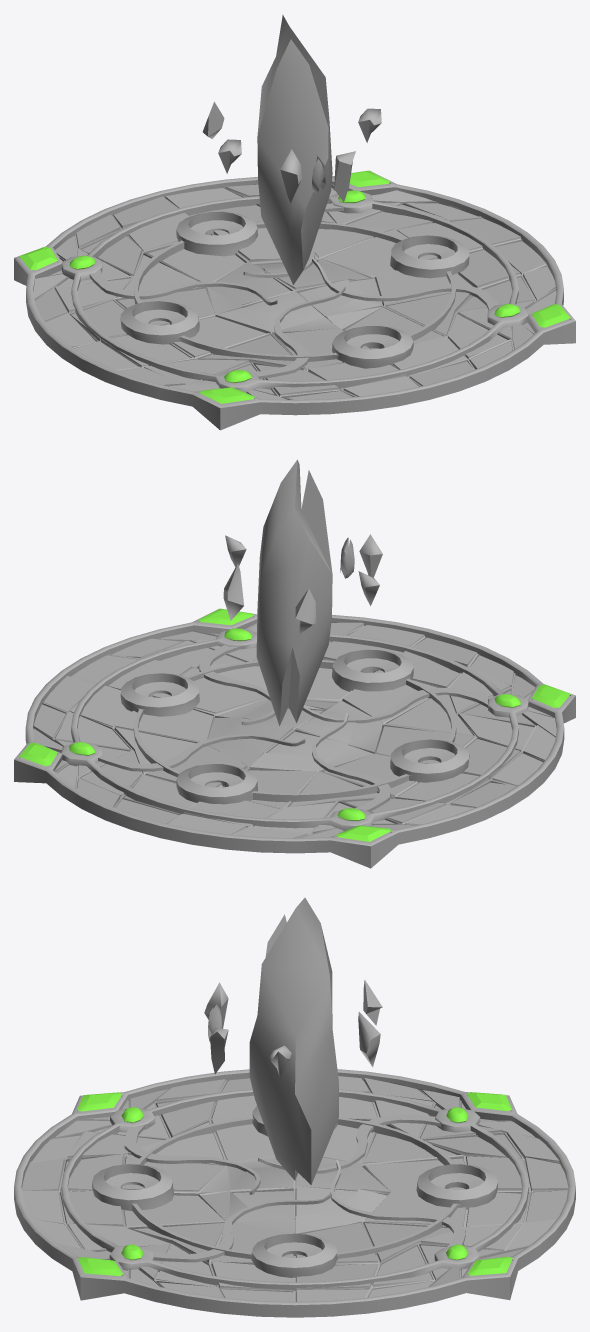
Rendered from Conduit_Uv_V1.FBX.
3 renders of one model, top to bottom at view 1: azimuth 30°, elevation 25°; view 2: azimuth 150°, elevation 25°; view 3: azimuth 270°, elevation 25°, orthographic. The views are drawn at different scales.
Visible parts, largest first — view 1: TiledFloor, polymsh18, Inner_RIng, cube1, polymsh19, Hook1, Hook3, Hook, octahedron3, octahedron, Diamond_BotLeft, Diamond_BotRight1 (+1 smaller); view 2: TiledFloor, polymsh18, cube1, Inner_RIng, polymsh19, Hook2, Hook, Hook1, Hook3, octahedron5, octahedron2, octahedron (+4 smaller); view 3: TiledFloor, cube1, polymsh18, Inner_RIng, polymsh19, Hook3, Hook2, Hook, Hook1, octahedron5, Diamond_BotLeft, Diamond_TopLeft (+3 smaller).
Part boxes in pixels (x1=…): TiledFloor: x1=33, y1=184, x2=556, y2=399; polymsh18: x1=14, y1=170, x2=575, y2=430; Inner_RIng: x1=120, y1=211, x2=469, y2=368; cube1: x1=257, y1=14, x2=332, y2=284; polymsh19: x1=61, y1=190, x2=527, y2=392; Hook1: x1=89, y1=269, x2=277, y2=305; Hook3: x1=312, y1=258, x2=499, y2=310; Hook: x1=249, y1=286, x2=345, y2=379; octahedron3: x1=334, y1=151, x2=355, y2=202; octahedron: x1=280, y1=149, x2=301, y2=203; Diamond_BotLeft: x1=199, y1=387, x2=254, y2=403; Diamond_BotRight1: x1=532, y1=304, x2=570, y2=327; TiledFloor: x1=33, y1=621, x2=556, y2=838; polymsh18: x1=14, y1=608, x2=575, y2=868; cube1: x1=256, y1=459, x2=332, y2=726; Inner_RIng: x1=120, y1=649, x2=469, y2=804; polymsh19: x1=61, y1=628, x2=528, y2=831; Hook2: x1=98, y1=734, x2=305, y2=771; Hook: x1=302, y1=688, x2=489, y2=723; Hook1: x1=312, y1=713, x2=390, y2=811; Hook3: x1=199, y1=645, x2=275, y2=725; octahedron5: x1=223, y1=563, x2=244, y2=620; octahedron2: x1=295, y1=588, x2=316, y2=633; octahedron: x1=359, y1=534, x2=382, y2=577; TiledFloor: x1=22, y1=1076, x2=568, y2=1301; cube1: x1=249, y1=897, x2=338, y2=1184; polymsh18: x1=14, y1=1069, x2=575, y2=1317; Inner_RIng: x1=92, y1=1106, x2=497, y2=1277; polymsh19: x1=61, y1=1089, x2=528, y2=1290; Hook3: x1=151, y1=1193, x2=331, y2=1262; Hook2: x1=330, y1=1160, x2=465, y2=1247; Hook: x1=124, y1=1125, x2=260, y2=1194; Hook1: x1=258, y1=1114, x2=440, y2=1173; octahedron5: x1=358, y1=1012, x2=380, y2=1067; Diamond_BotLeft: x1=77, y1=1092, x2=122, y2=1111; Diamond_TopLeft: x1=467, y1=1092, x2=511, y2=1111.
Size of the model in its own units: 48.85 by 29.61 by 48.85.
